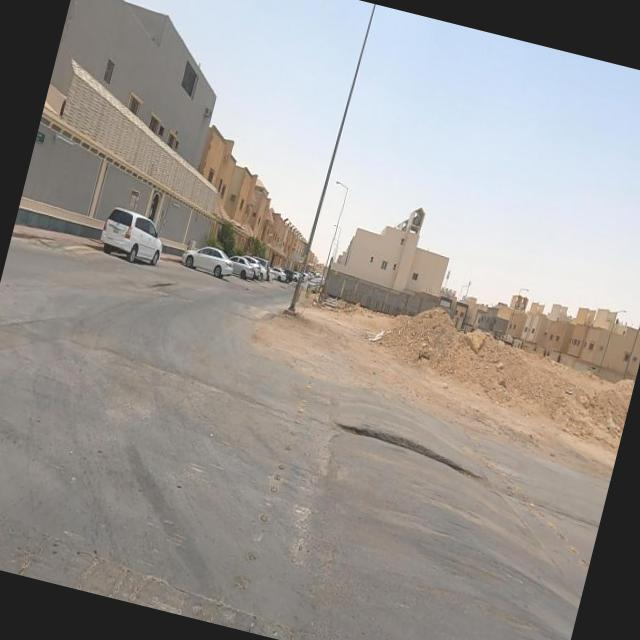debris: (342, 294, 416, 380)
